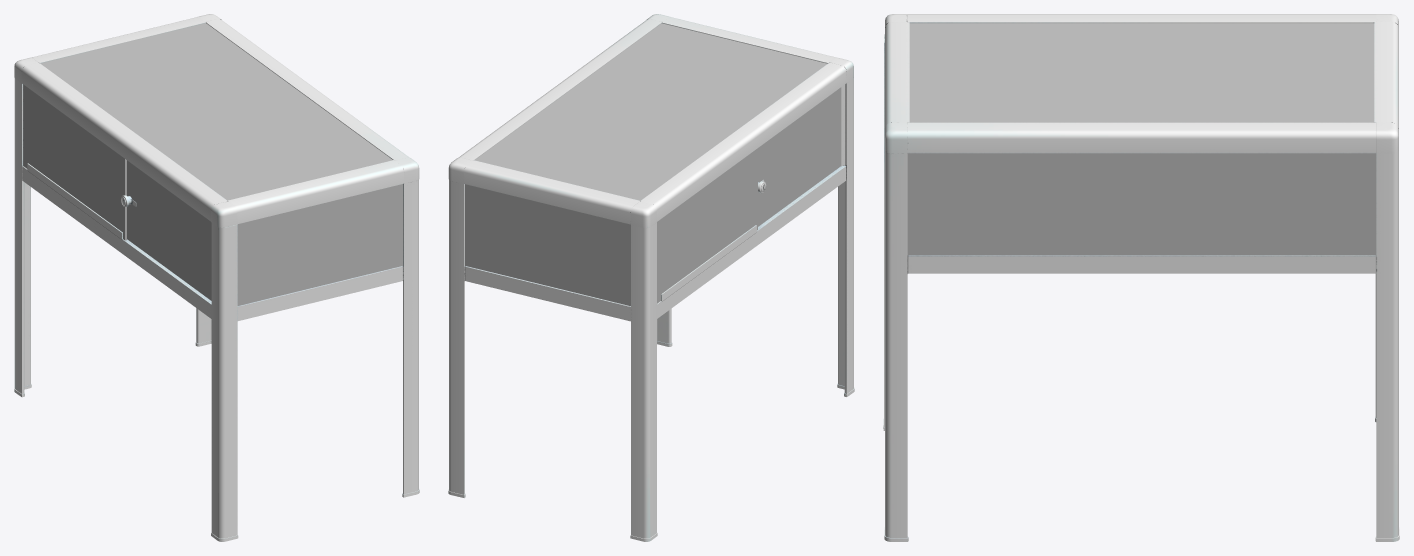
File: sora_aluminium_aluminium_polished.glb
3 views of the same model, side by side, from view 1: azimuth 30°, elevation 25°; view 2: azimuth 150°, elevation 25°; view 3: azimuth 270°, elevation 25° (orthographic). The views are drawn at different scales.
Visible parts, largest first — view 1: sora-aluminium_coloured_Glass, sora_aluminium_coloured; view 2: sora-aluminium_coloured_Glass, sora_aluminium_coloured; view 3: sora-aluminium_coloured_Glass, sora_aluminium_coloured.
Part boxes in pixels (x1,y1,x2,y2): sora-aluminium_coloured_Glass: [23, 23, 402, 305]; sora_aluminium_coloured: [14, 14, 419, 541]; sora-aluminium_coloured_Glass: [465, 23, 841, 305]; sora_aluminium_coloured: [448, 14, 854, 541]; sora-aluminium_coloured_Glass: [907, 23, 1376, 255]; sora_aluminium_coloured: [883, 14, 1399, 541].
Bounding box in the file's own units: 0.5927 × 0.917 × 1.05.
2 materials, 1 textured.
